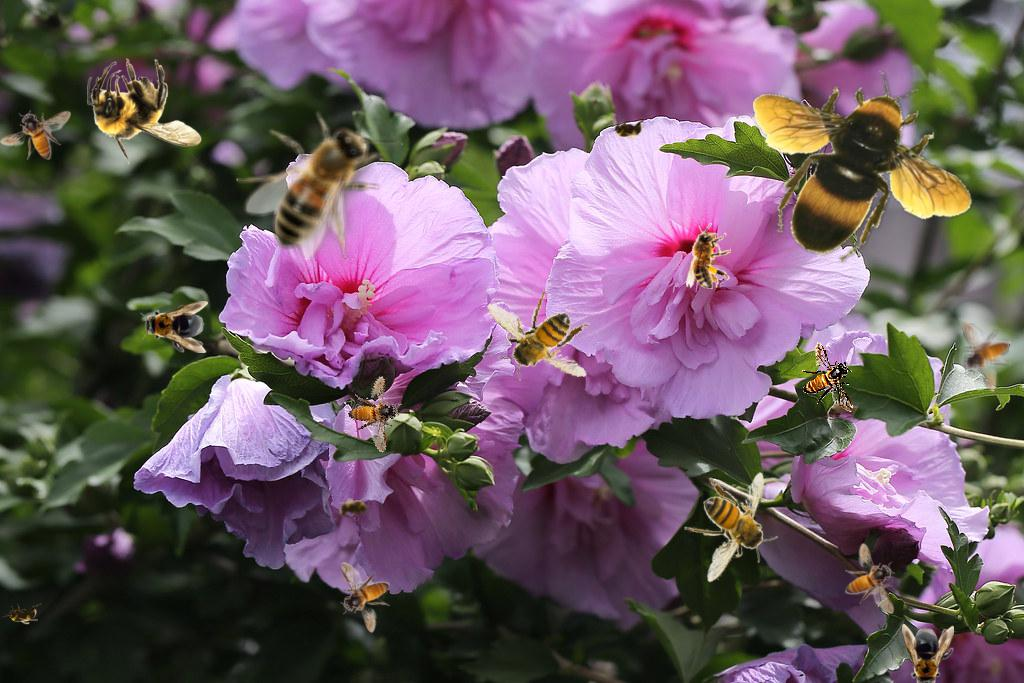Bee: (753, 71, 973, 262), (236, 98, 403, 260), (474, 280, 601, 392), (87, 58, 202, 165), (684, 472, 778, 583), (338, 369, 412, 454), (800, 340, 854, 415), (0, 110, 71, 160), (340, 562, 390, 633), (961, 321, 1011, 392), (845, 543, 895, 614), (140, 301, 208, 353), (902, 624, 954, 683), (686, 223, 731, 289), (2, 603, 42, 625), (334, 498, 374, 520), (608, 118, 648, 140)
